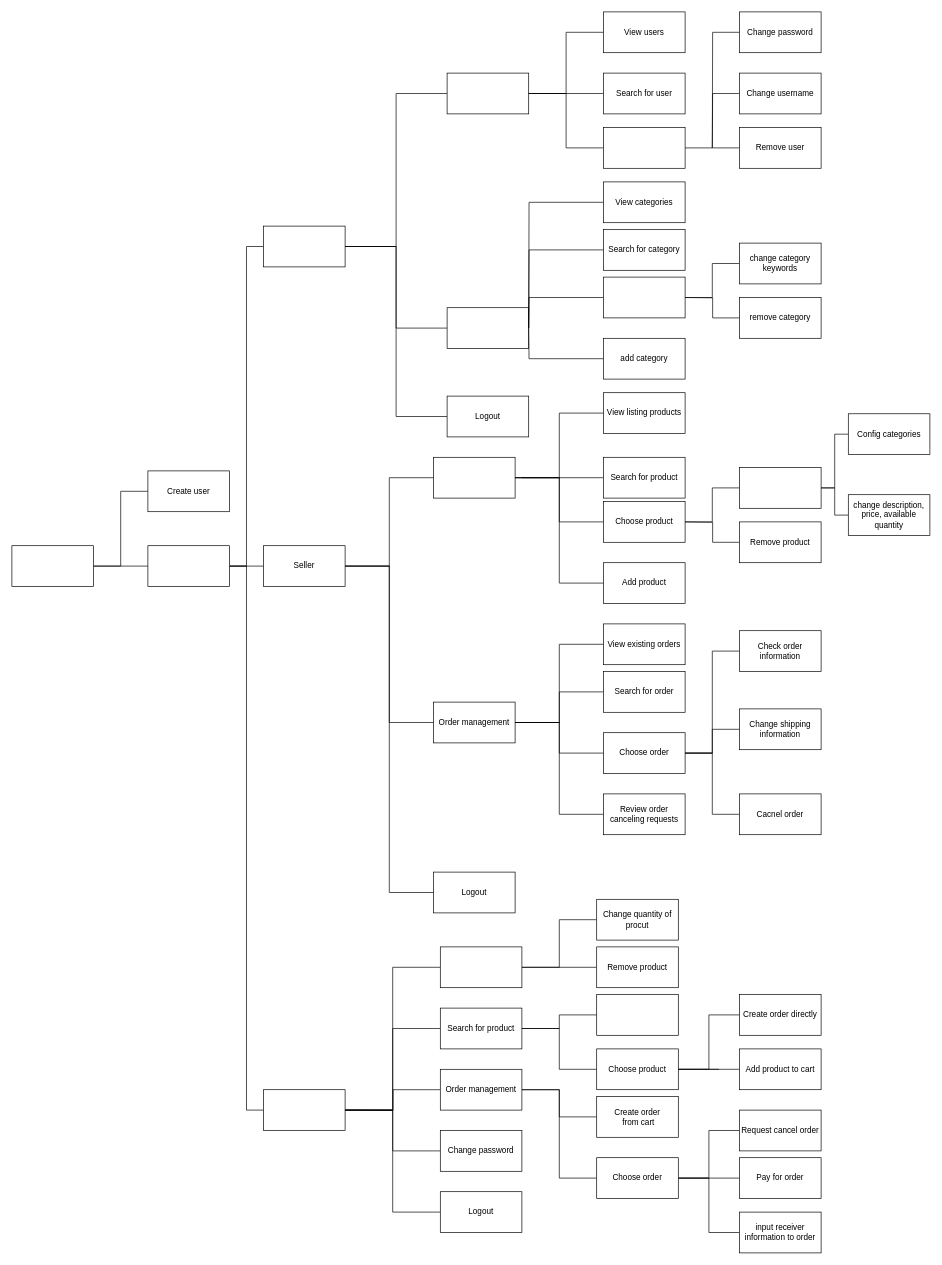
The diagram is 942 pixels wide and 1265 high, and some of its shapes have lost their labels. Here are the shapes that lost their labels. From the top down, the centre of each, then its label:
At point 487,93: "User management".
At point 644,147: "Select user".
At point 304,246: "Admin".
At point 644,297: "Choose category".
At point 487,327: "Category management".
At point 474,477: "Product managment".
At point 780,487: "Change product information".
At point 52,565: "Main page".
At point 188,565: "Login".
At point 481,967: "Cart".
At point 637,1014: "View products".
At point 304,1109: "Customer".
